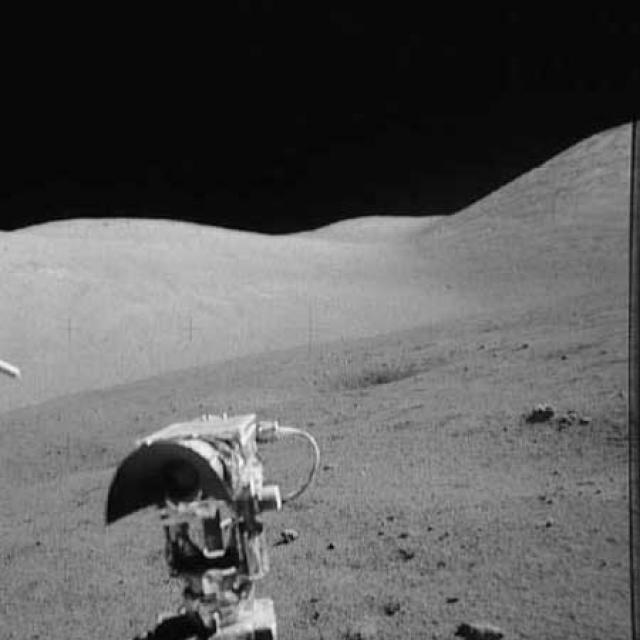crater: (304, 344, 465, 392), (9, 427, 146, 474)
rock: (110, 416, 328, 638), (452, 612, 511, 638), (524, 398, 557, 422)
